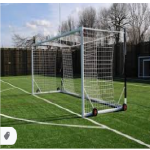goals: (30, 25, 124, 120)
